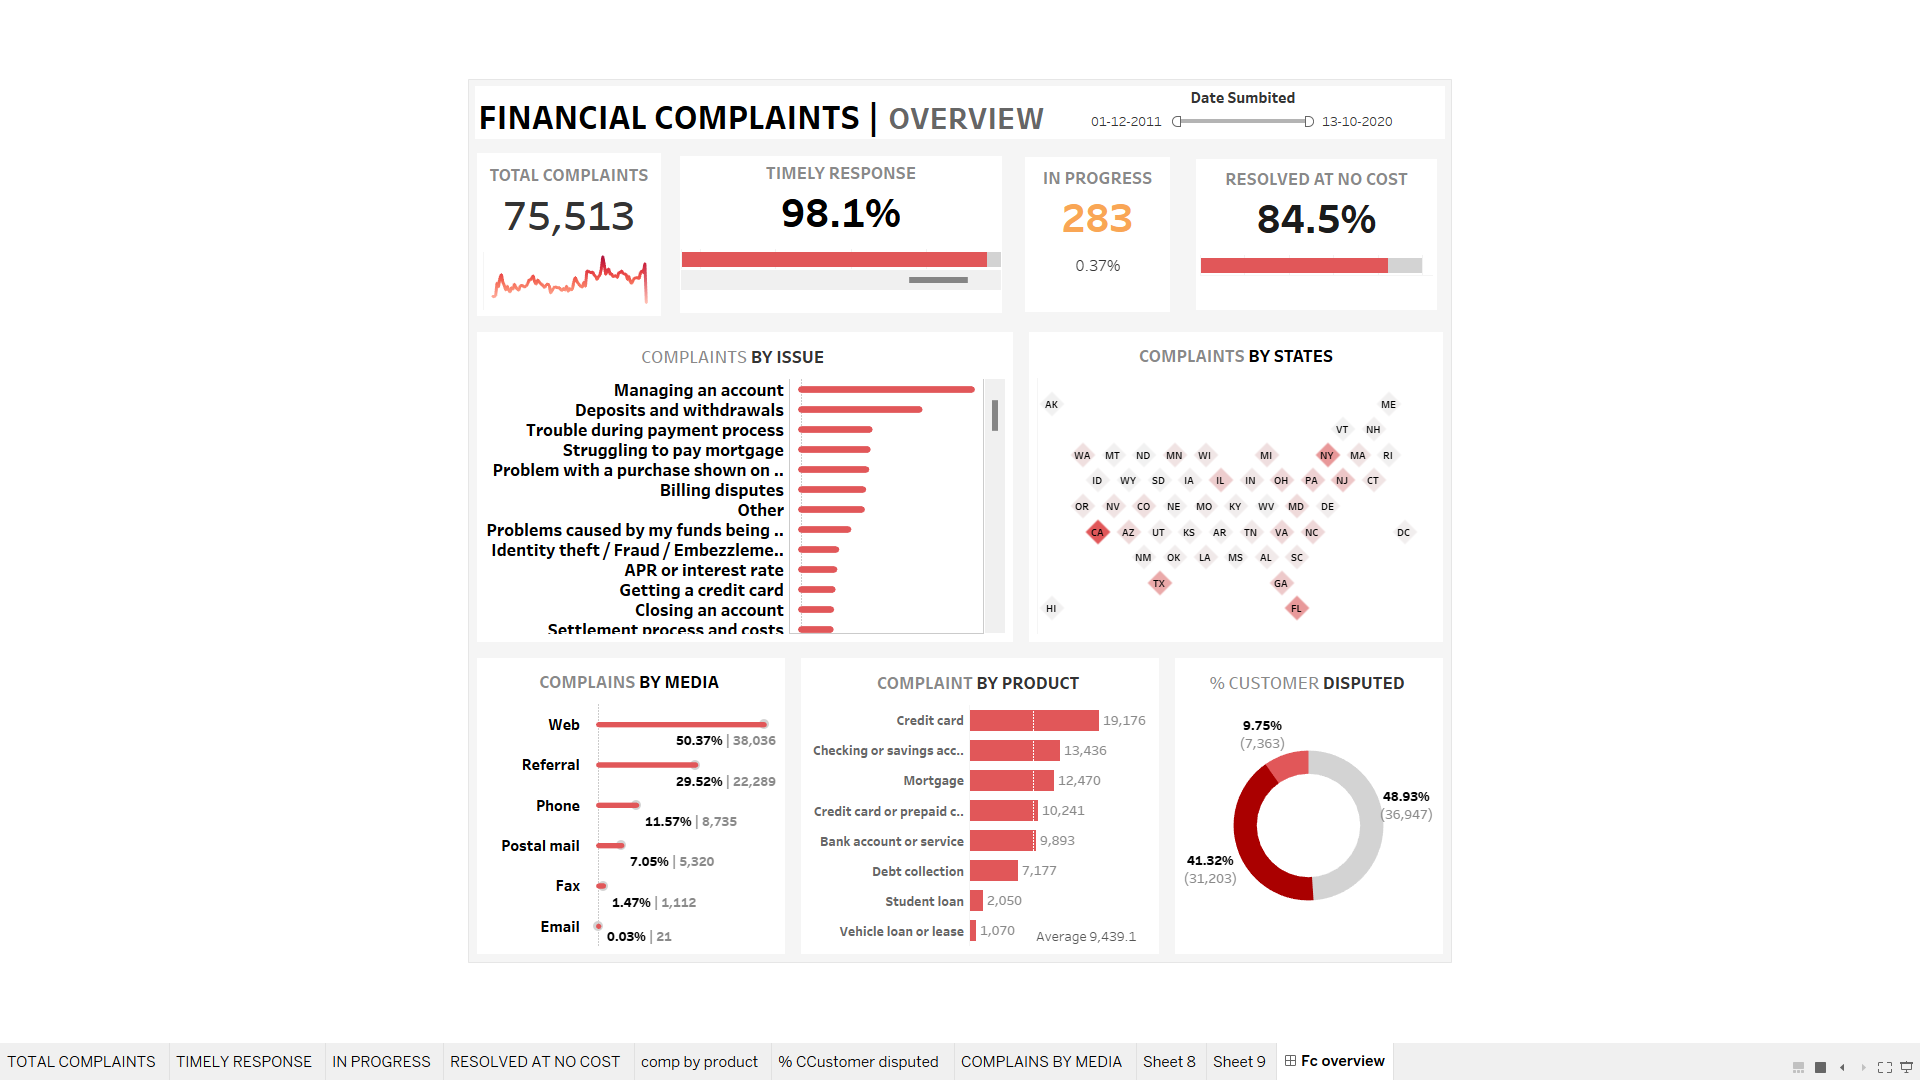

The dashboard page shown, as its layout file describes it:
{"tool":"tableau","page":{"name":"Fc overview","canvas":[1000,900],"ordinal":0},"visuals":[{"type":"text","box":[9,9,982,64.8]},{"type":"filter","title":"Sheet 8","param":"[federated.0ox3ndp0gzz5mh155ex500k87oih].[none:Date Sumbited:qk]","box":[625,15.7,316,56.2]},{"type":"worksheet","title":"TOTAL COMPLAINTS","mark":"Automatic","rows":["Financial Consumer Complaints.csv_2A0DD6235A5B4AB38E34AC6DEE"],"cols":["Date Sumbited"],"box":[9,73.8,200,178.8]},{"type":"worksheet","title":"TIMELY RESPONSE","mark":"Bar","box":[209,73.8,344,178.8]},{"type":"worksheet","title":"IN PROGRESS","mark":"Automatic","box":[553,73.8,169,178.8]},{"type":"worksheet","title":"RESOLVED AT NO COST","mark":"Bar","box":[722,73.8,269,178.8]},{"type":"worksheet","title":"Sheet 8","mark":"Line","rows":["Issue"],"cols":["Financial Consumer Complaints.csv_2A0DD6235A5B4AB38E34AC6DEE"],"box":[9,252.6,552,326.4]},{"type":"worksheet","title":"Sheet 9","mark":"Automatic","rows":["Row"],"cols":["Column"],"box":[561,252.6,430,326.4]},{"type":"worksheet","title":"COMPLAINS BY MEDIA","mark":"Automatic","rows":["Submitted via"],"cols":["Financial Consumer Complaints.csv_2A0DD6235A5B4AB38E34AC6DEE"],"box":[9,579,324,312]},{"type":"worksheet","title":"comp by product","mark":"Automatic","rows":["Product"],"cols":["Financial Consumer Complaints.csv_2A0DD6235A5B4AB38E34AC6DEE"],"box":[333,579,374,312]},{"type":"worksheet","title":"% CCustomer disputed","mark":"Pie","rows":["Calculation_788411477687533579","Calculation_788411477687554061"],"box":[707,579,284,312]}]}

Visuals, with their boxes on the page's 1000x900 design canvas (x1, y1, x2, y2). These are canvas units, not pixel positions in the 1920x1080 screenshot, which may show the page scaled, cropped or inside an application window:
text: 9, 9, 991, 74
"Sheet 8" filter: 625, 16, 941, 72
"TOTAL COMPLAINTS" worksheet: 9, 74, 209, 253
"TIMELY RESPONSE" worksheet (Bar marks): 209, 74, 553, 253
"IN PROGRESS" worksheet: 553, 74, 722, 253
"RESOLVED AT NO COST" worksheet (Bar marks): 722, 74, 991, 253
"Sheet 8" worksheet (Line marks): 9, 253, 561, 579
"Sheet 9" worksheet: 561, 253, 991, 579
"COMPLAINS BY MEDIA" worksheet: 9, 579, 333, 891
"comp by product" worksheet: 333, 579, 707, 891
"% CCustomer disputed" worksheet (Pie marks): 707, 579, 991, 891
